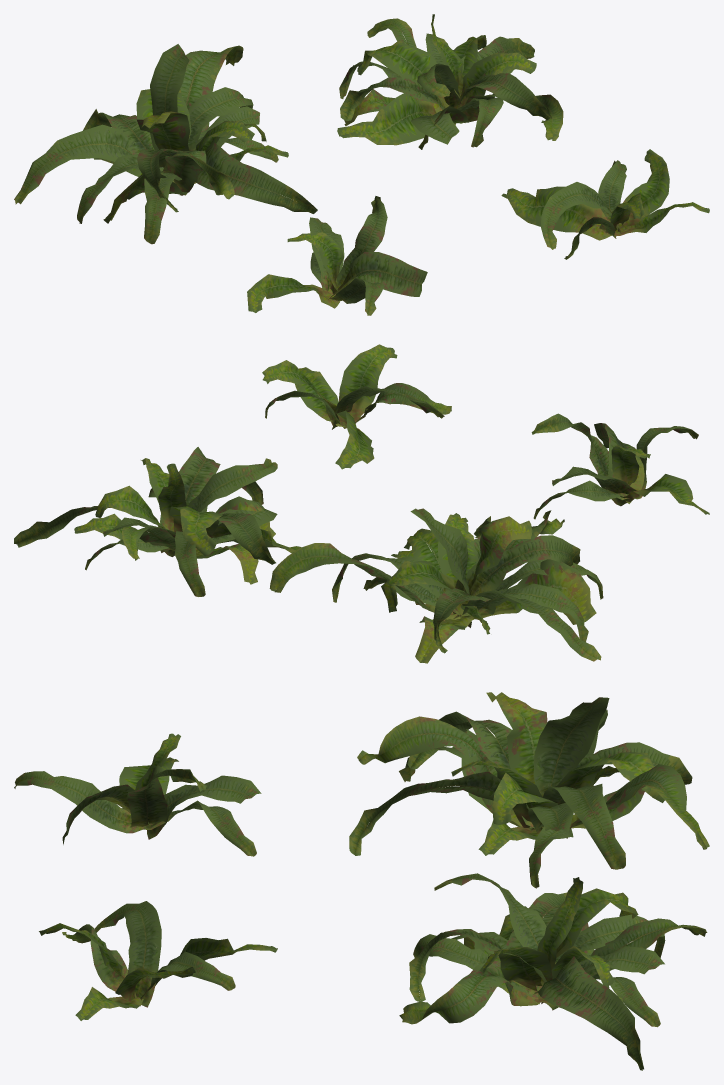
File: fern_02.glb
The picture shows the model from 3 angles, top to bottom: view 1: azimuth 30°, elevation 25°; view 2: azimuth 150°, elevation 25°; view 3: azimuth 270°, elevation 25°; orthographic projection. The views are drawn at different scales.
Visible parts, largest first — view 1: fern_02_b, fern_02_c, fern_02_d, fern_02_a; view 2: fern_02_b, fern_02_c, fern_02_d, fern_02_a; view 3: fern_02_b, fern_02_c, fern_02_a, fern_02_d.
Boxes of the visible parts, x1,y1,x2,y2 form: fern_02_b: [14, 44, 317, 244]; fern_02_c: [337, 14, 563, 149]; fern_02_d: [501, 149, 709, 259]; fern_02_a: [247, 196, 427, 315]; fern_02_b: [269, 508, 603, 663]; fern_02_c: [14, 447, 301, 596]; fern_02_d: [262, 344, 451, 469]; fern_02_a: [531, 413, 709, 519]; fern_02_b: [349, 692, 709, 888]; fern_02_c: [399, 873, 707, 1070]; fern_02_a: [14, 733, 261, 856]; fern_02_d: [39, 901, 277, 1020].
Bounding box in the file's own units: 1.97 × 0.4277 × 1.72.
1 material, 1 textured.
